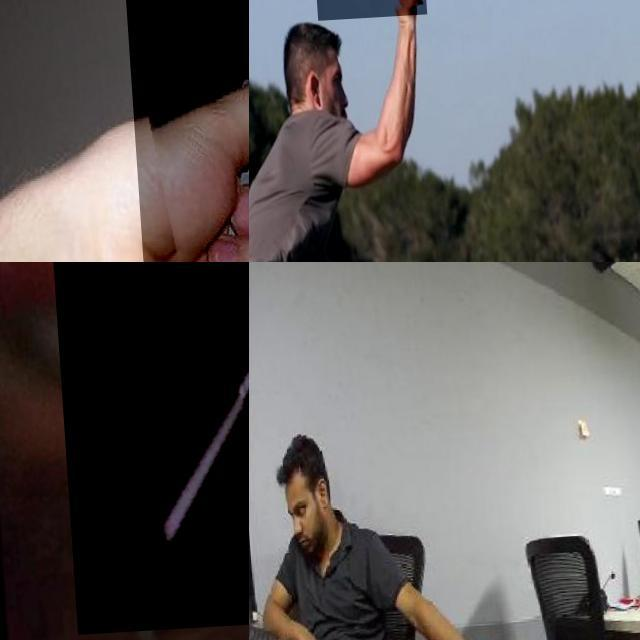-: (117, 0, 249, 262), (308, 0, 423, 58)
gun-knife-thesis - v11 Yolov5 augmented: (48, 262, 249, 635)
